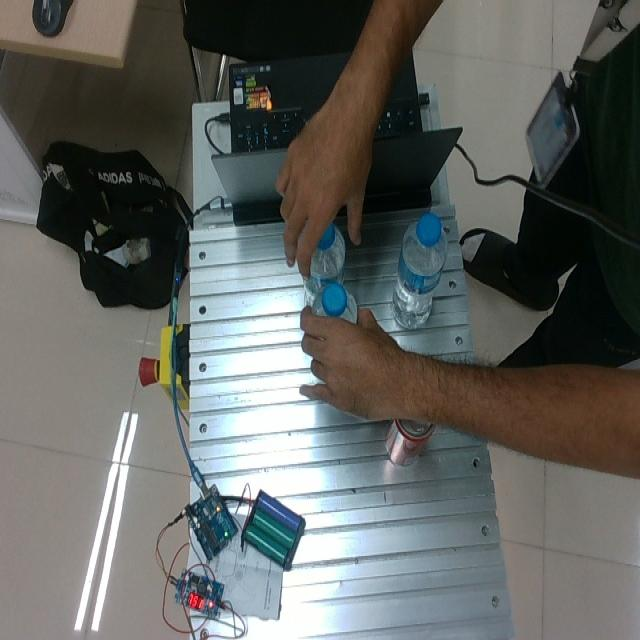coca: (384, 416, 434, 465)
lavie: (390, 216, 447, 329), (304, 221, 346, 307), (312, 283, 358, 326)
